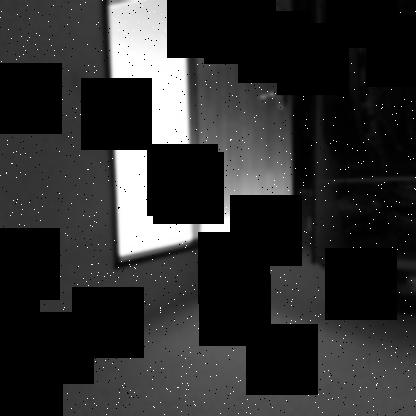Porte: (101, 0, 301, 270)
